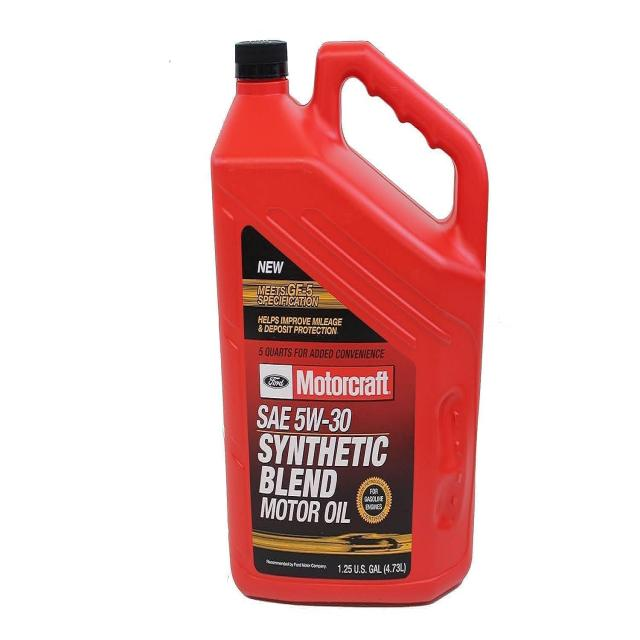motor_oil: (210, 33, 485, 613)
